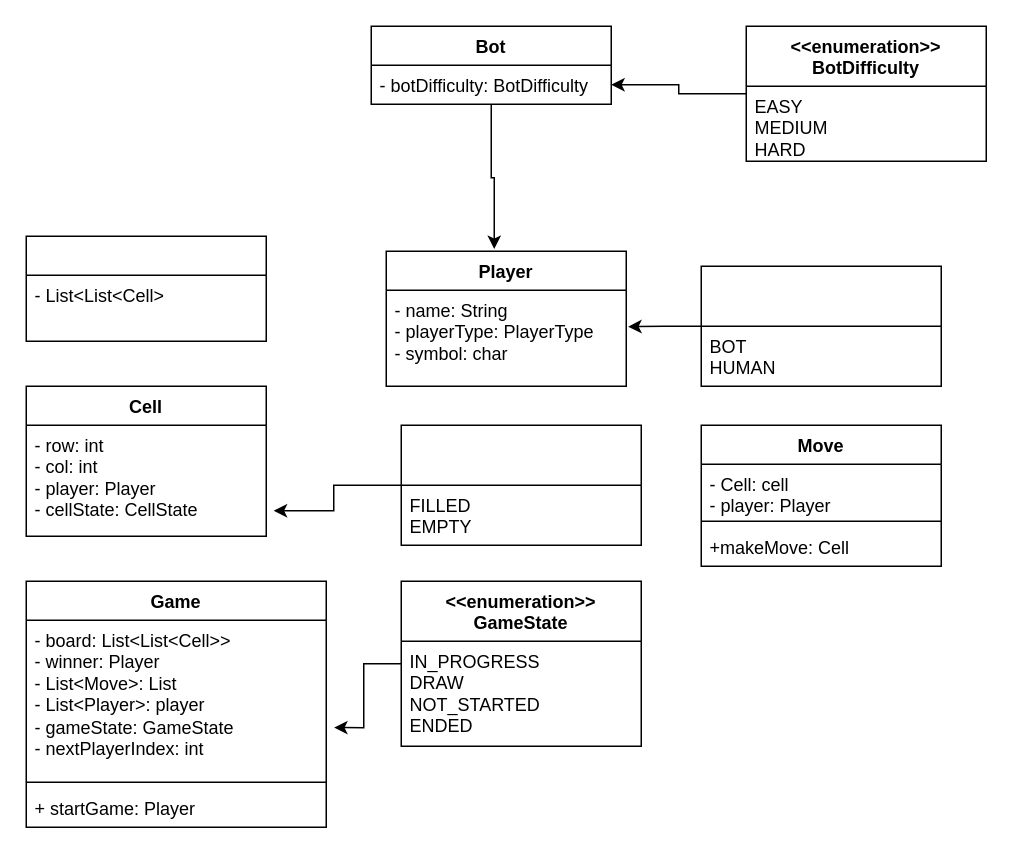
This 1013x858 diagram has some shape labels left out. The shapes that lost their labels are listed below. From the top down, each one's box as (x1, y1, x2, y2) in pixels, then its label:
(25, 235, 266, 341): Board
(700, 265, 941, 386): <<enumeration>> PlayerType
(400, 424, 641, 545): <<enumeration>> CellState
